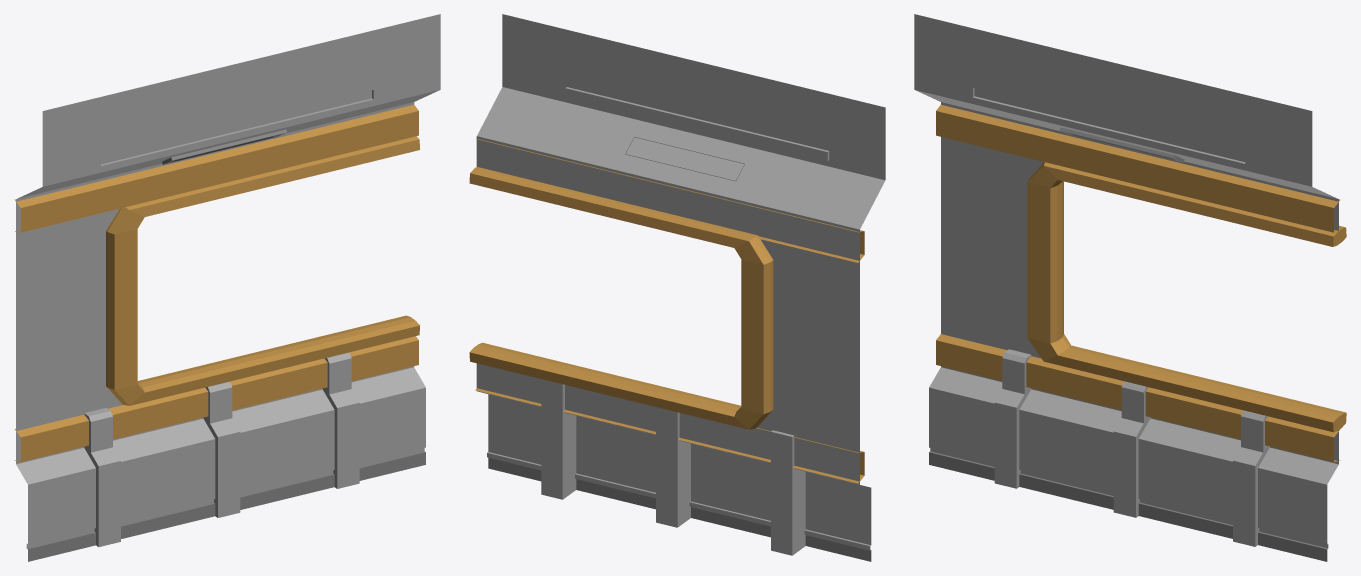
The model's file is LeftGlassWall.fbx.
3 views of the same model, side by side, from view 1: azimuth 30°, elevation 25°; view 2: azimuth 150°, elevation 25°; view 3: azimuth 330°, elevation 25° (orthographic). The views are drawn at different scales.
Parts seen in each view (by area): view 1: Wall_Empty, Cube.001; view 2: Wall_Empty, Cube.001; view 3: Wall_Empty, Cube.001.
Part boxes in pixels (x1=…): Wall_Empty: x1=14, y1=14, x2=440, y2=561; Cube.001: x1=106, y1=136, x2=419, y2=405; Wall_Empty: x1=475, y1=14, x2=885, y2=561; Cube.001: x1=469, y1=167, x2=773, y2=429; Wall_Empty: x1=914, y1=14, x2=1340, y2=561; Cube.001: x1=1027, y1=162, x2=1346, y2=432.
Size of the model in its own units: 400 by 443 by 59.51.
